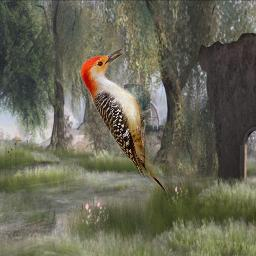Woodpecker: (80, 48, 168, 195)
